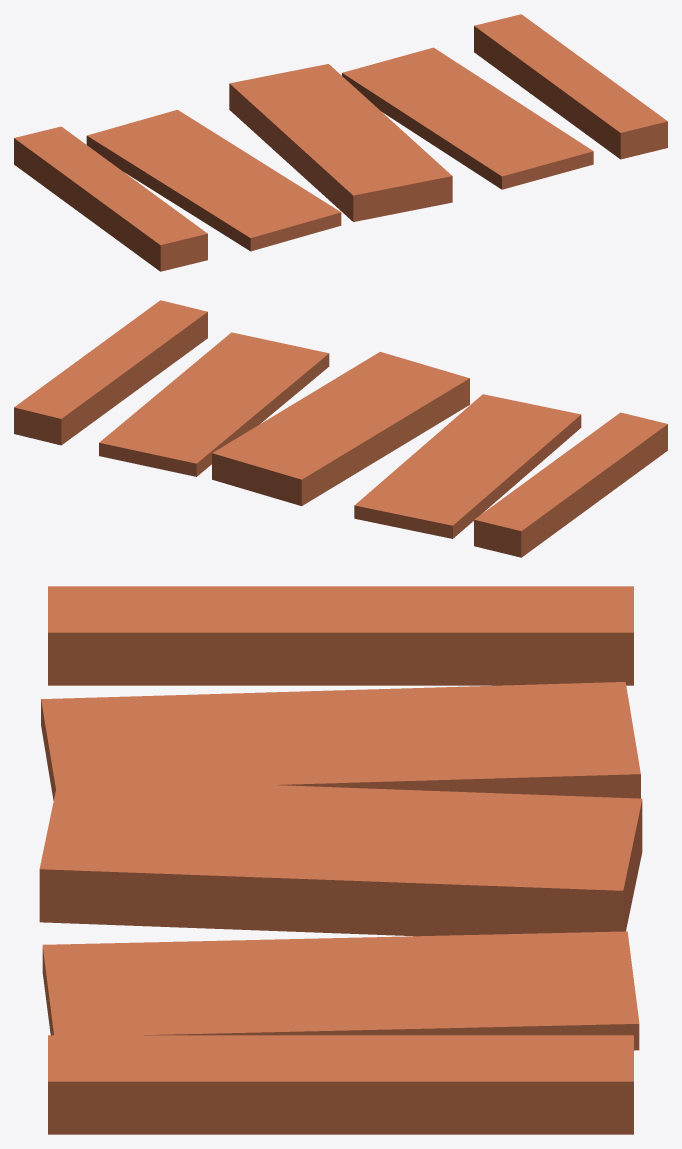
Rendered from path_wood.glb.
3 views of the same model, one above another, from view 1: azimuth 30°, elevation 25°; view 2: azimuth 150°, elevation 25°; view 3: azimuth 270°, elevation 25° (orthographic). The views are drawn at different scales.
Parts seen in each view (by area): view 1: path_wood; view 2: path_wood; view 3: path_wood.
Part boxes in pixels (<box>): path_wood: <box>14,14,667,271</box>; path_wood: <box>14,300,667,557</box>; path_wood: <box>39,586,642,1134</box>.
Bounding box in the file's own units: 1 × 0.05 × 0.5144.
